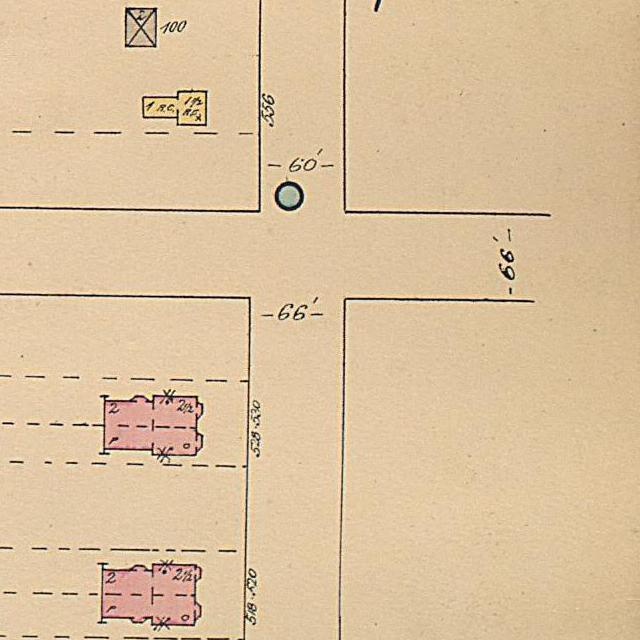building-footprints: (102, 564, 200, 625), (104, 396, 202, 455), (143, 91, 206, 125), (126, 8, 156, 47)
